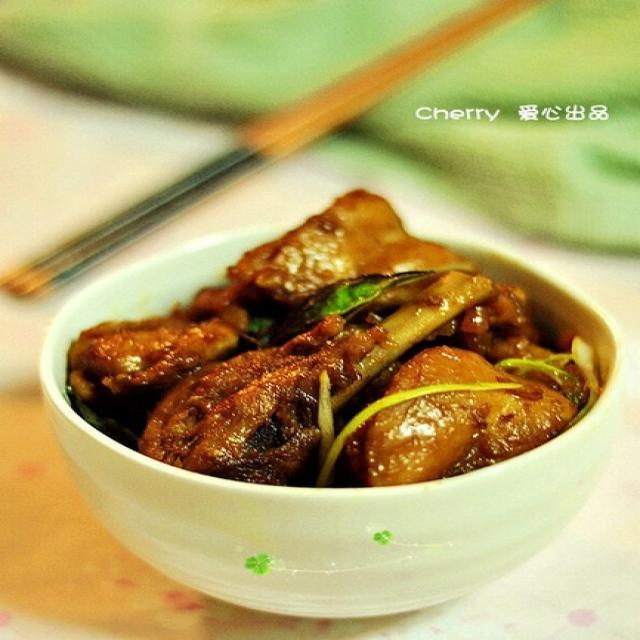鸡肉料理 含炸鸡: (31, 109, 603, 608)
